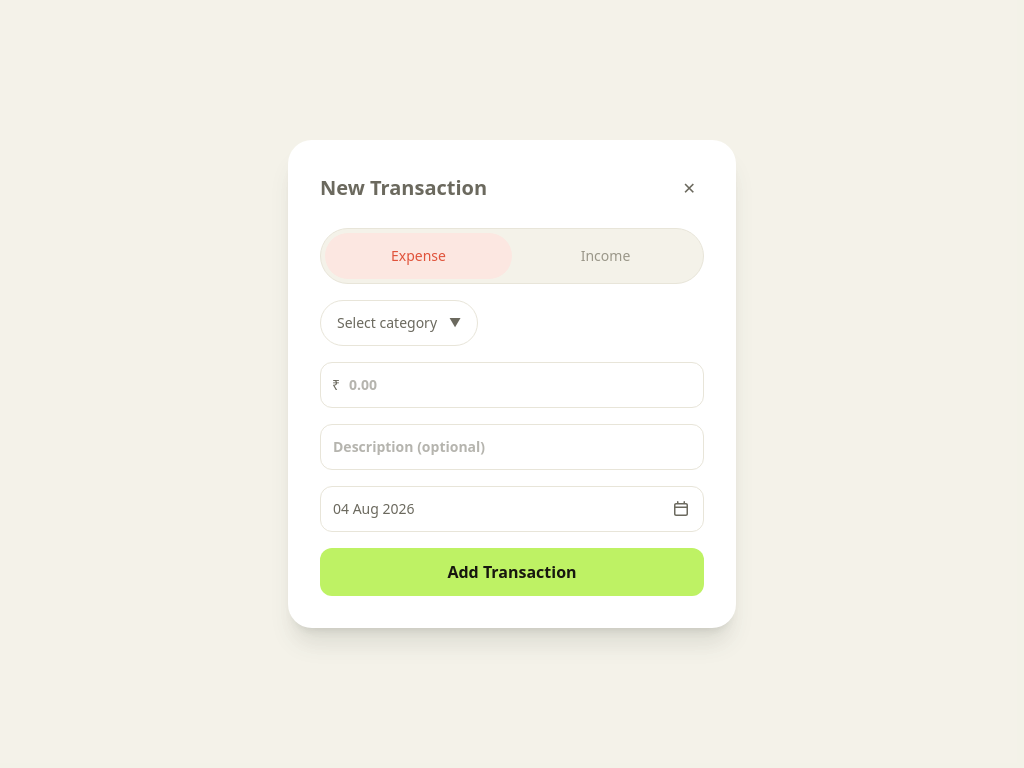
Test: TransactionModal validation › rejects a missing amount
The image size is (1024, 768).
# pick the category through the dropdown
Click the text "Select category" at (387, 322), box [337, 313, 437, 332]
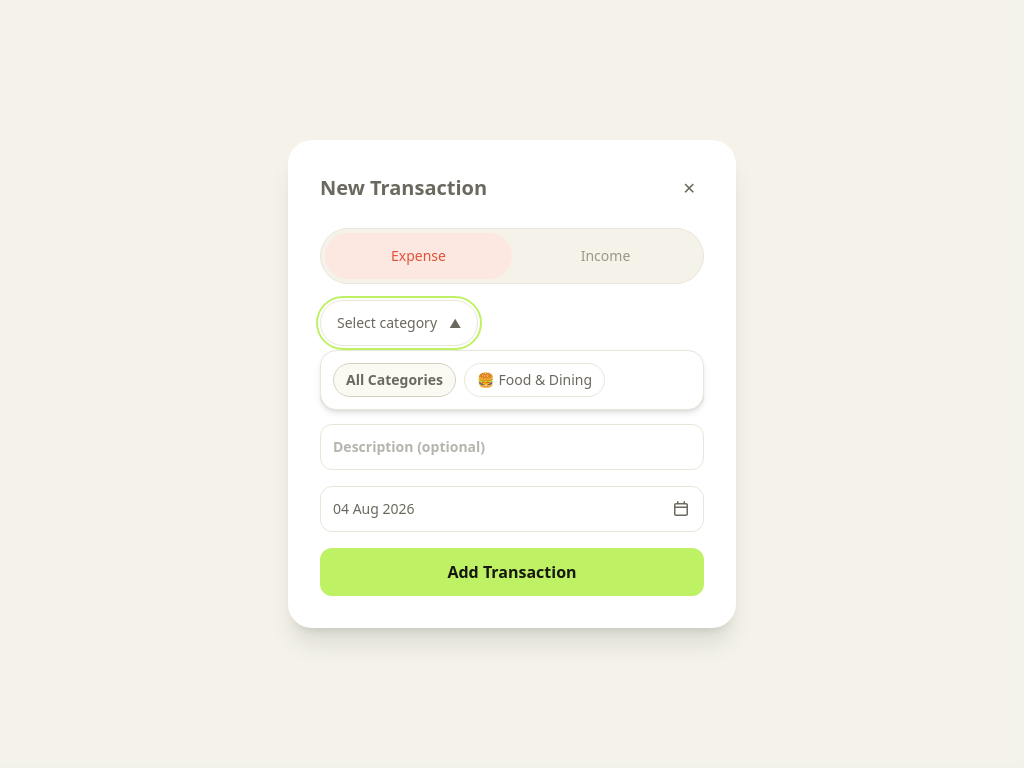
Click the text "Food & Dining" at (545, 380), box [498, 370, 592, 390]
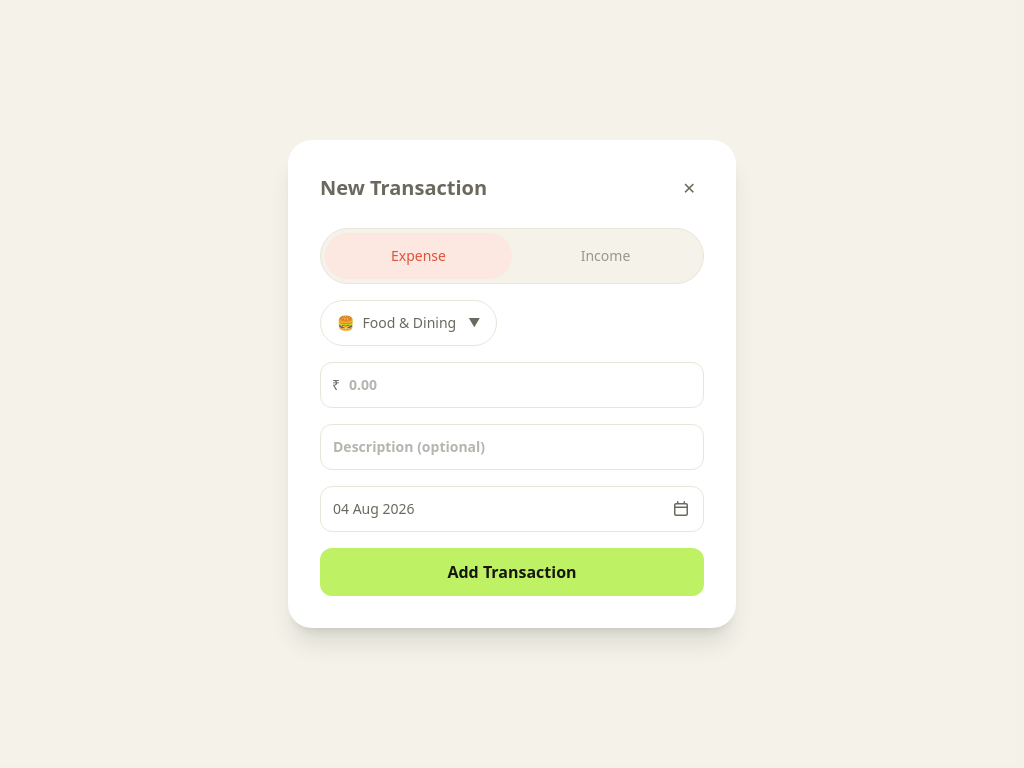
Submit the form "Add Transaction", box [320, 228, 704, 596]
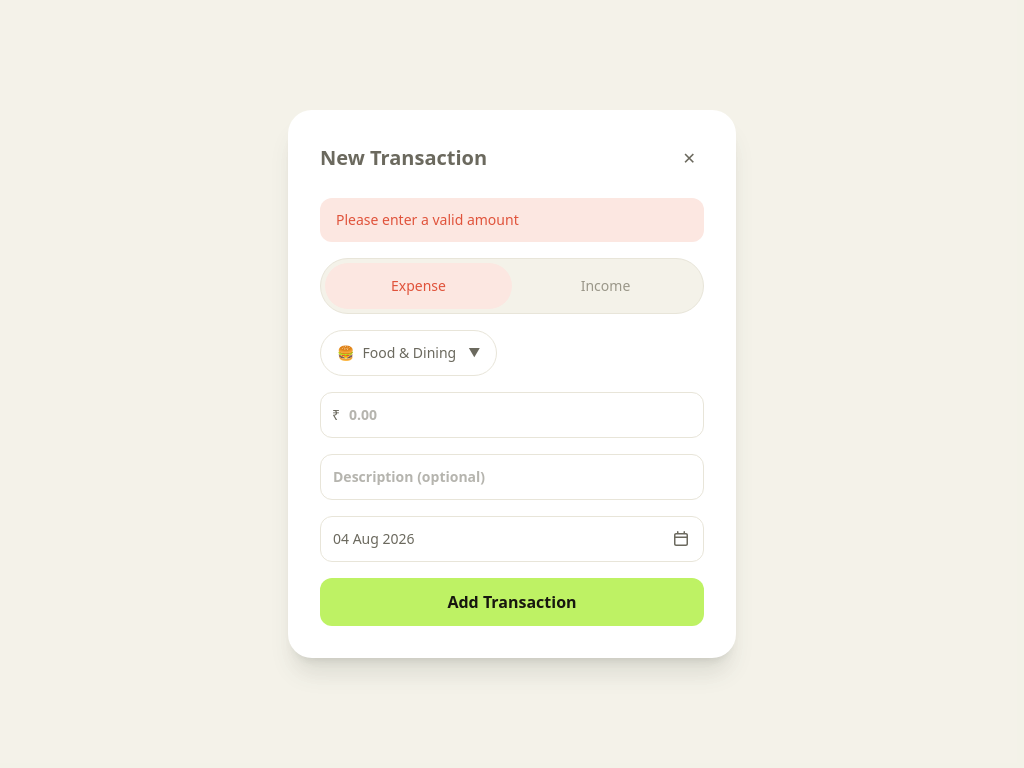
Now the text "Please enter a valid amount" is shown, box [320, 198, 704, 242]
